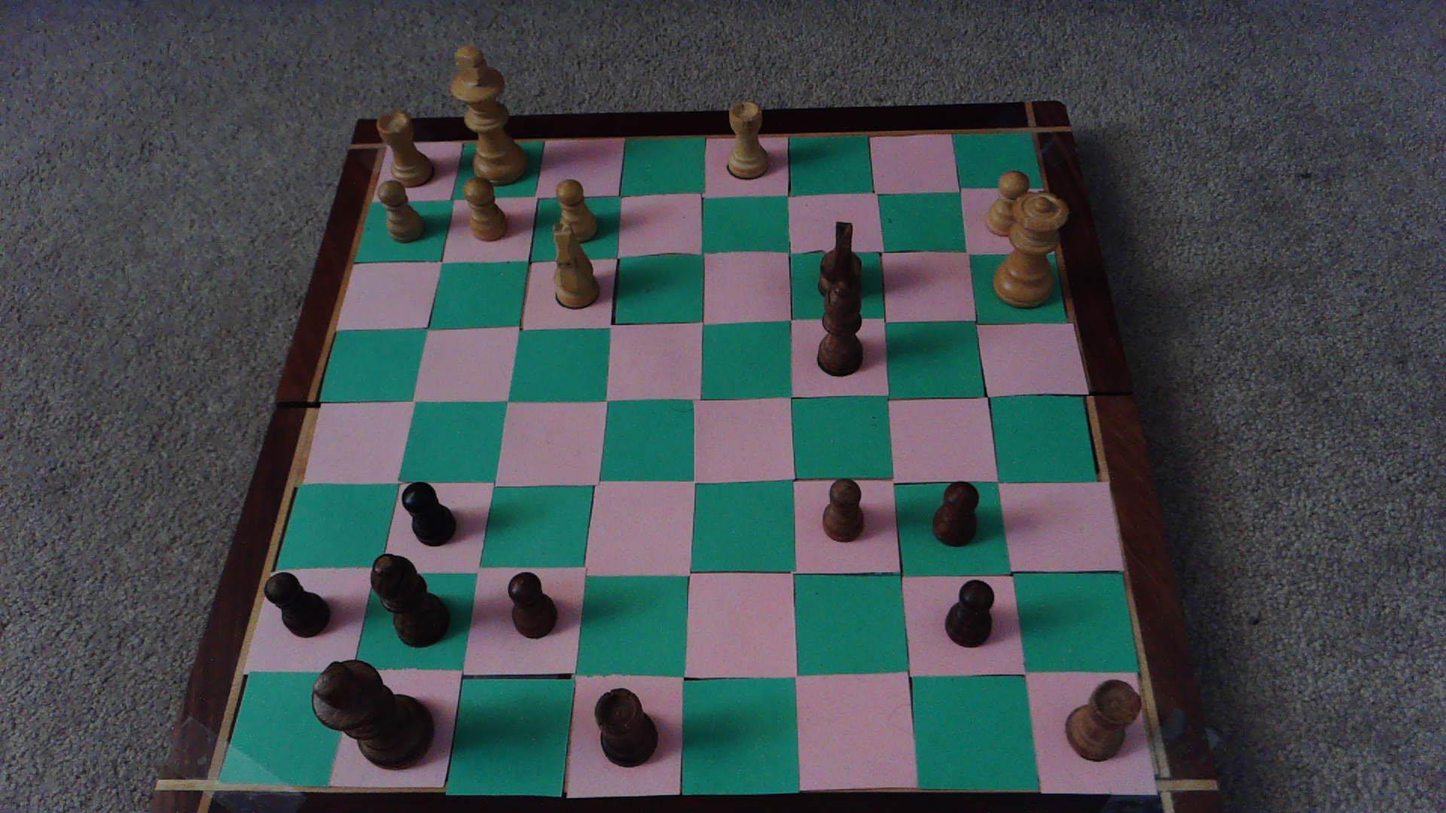dark_piece: (313, 659, 432, 769), (372, 554, 448, 647), (1066, 680, 1140, 760), (595, 688, 657, 766), (817, 273, 862, 375), (264, 573, 330, 637), (817, 221, 863, 299), (402, 483, 455, 546), (508, 572, 556, 638), (946, 580, 992, 647), (933, 482, 977, 546), (822, 480, 863, 541)
white_piece: (450, 45, 526, 184), (994, 193, 1068, 306), (376, 110, 433, 186), (552, 222, 600, 309), (727, 102, 769, 180), (378, 179, 426, 243), (987, 170, 1030, 237), (464, 178, 507, 242), (555, 179, 597, 244)
